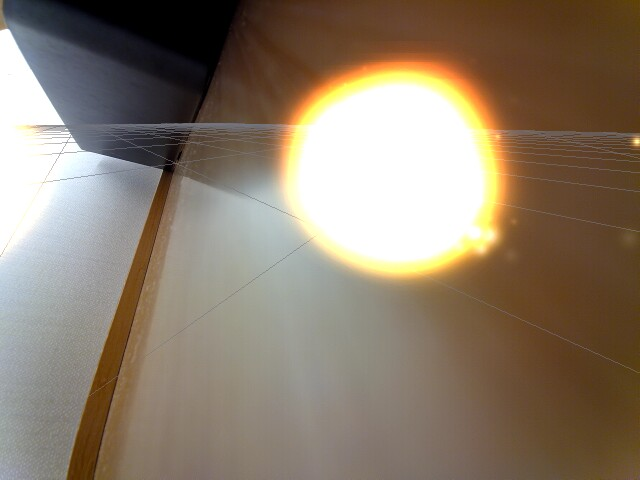firebig: (253, 62, 506, 269)
